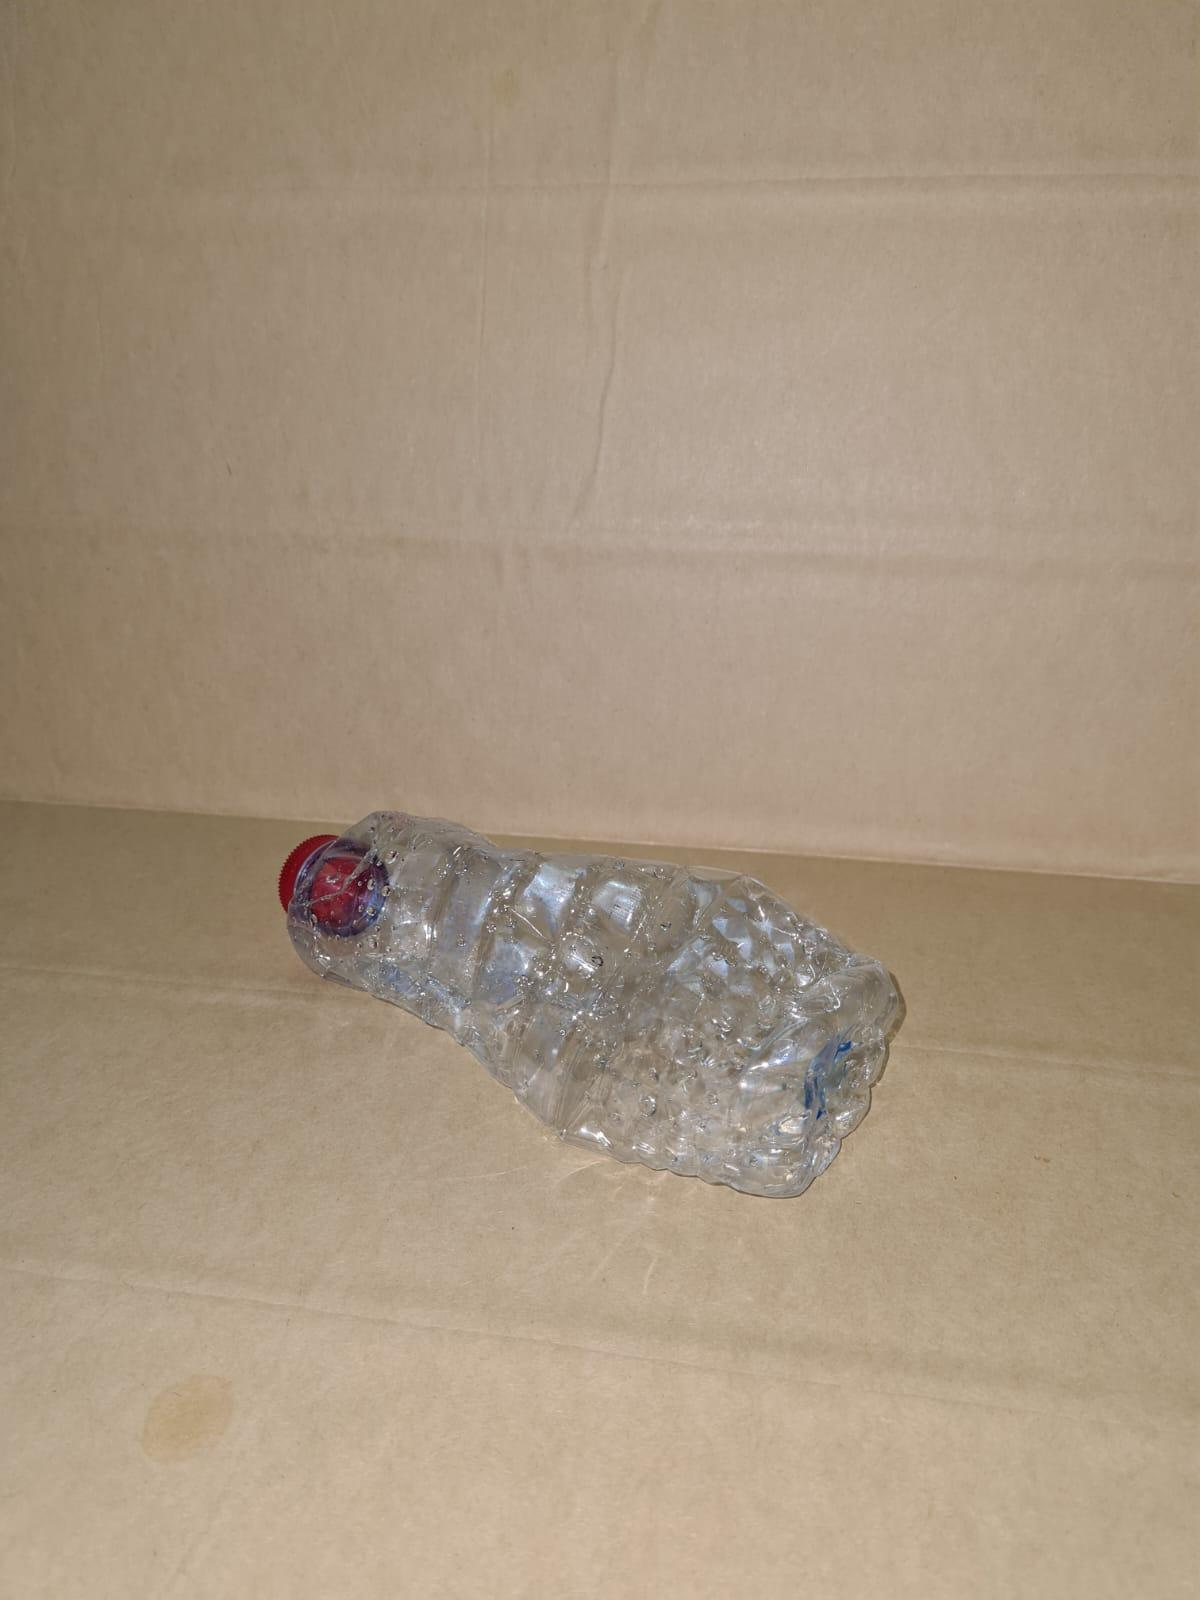bottle: (248, 791, 937, 1194)
